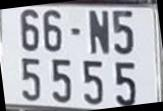-: (71, 29, 79, 34)
5: (83, 61, 103, 104), (113, 12, 133, 54), (116, 62, 135, 105), (52, 59, 71, 102), (22, 58, 40, 101)
6: (43, 10, 61, 52), (21, 9, 38, 50)
N: (89, 11, 109, 54)
